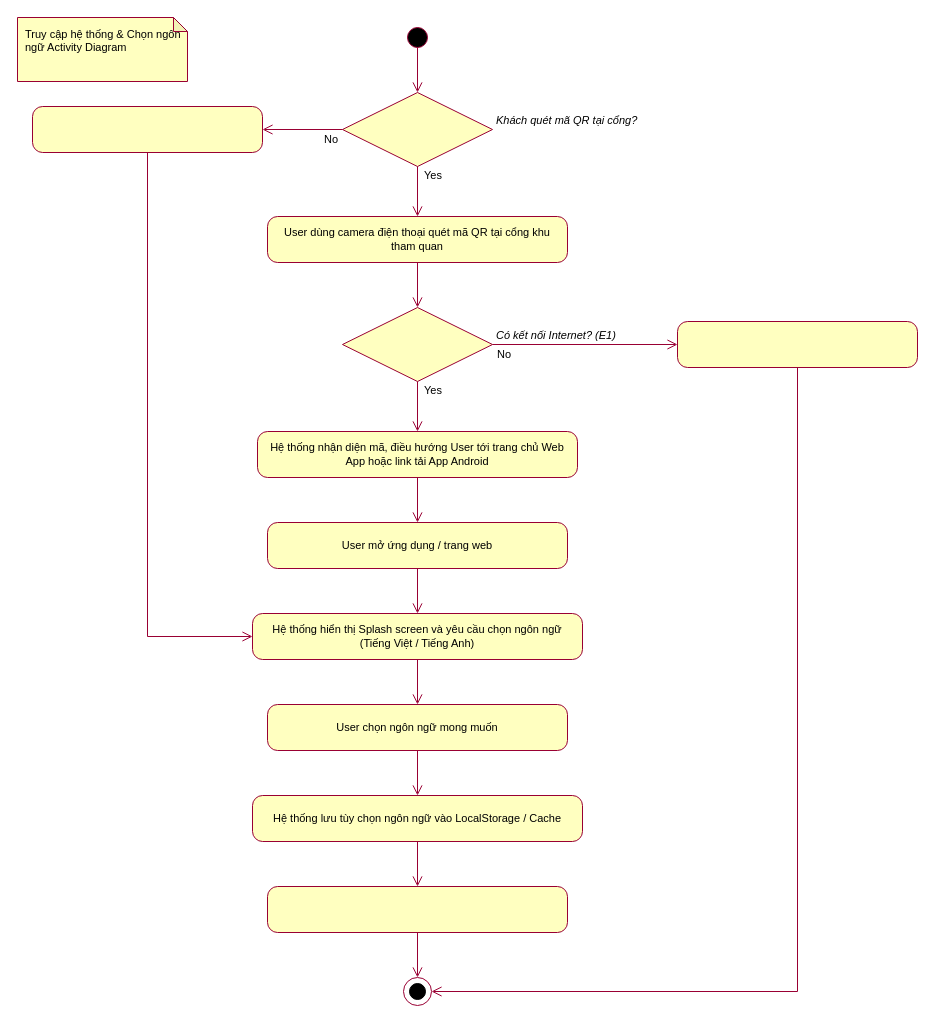
This 935x1023 diagram has some shape labels left out. Here are the shapes that lost their labels. From the top down, the box of each, then its label:
(32, 106, 262, 152): User truy cập trực tiếp bằng URL (A1)
(676, 320, 918, 368): Trình duyệt / thiết bị báo lỗi không thể truy cập mạng
(266, 886, 568, 932): Hệ thống hiển thị giao diện Bản đồ chính
